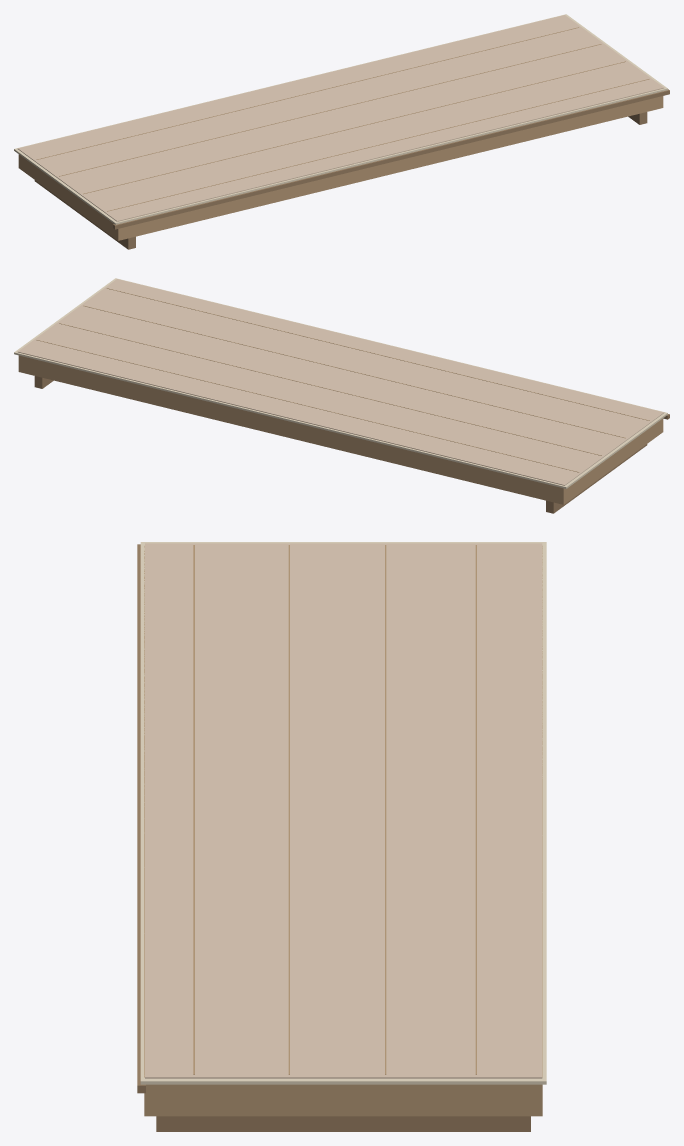
File: WoodenShowcaseCounter.glb
The picture shows the model from 3 angles, top to bottom: view 1: azimuth 30°, elevation 25°; view 2: azimuth 150°, elevation 25°; view 3: azimuth 270°, elevation 25°; orthographic projection. The views are drawn at different scales.
Visible parts, largest first — view 1: WoodenShowcaseCounter; view 2: WoodenShowcaseCounter; view 3: WoodenShowcaseCounter.
Part boxes in pixels (x1,y1,x2,y2): WoodenShowcaseCounter: [14, 14, 669, 249]; WoodenShowcaseCounter: [14, 278, 669, 513]; WoodenShowcaseCounter: [137, 542, 546, 1131].
Size of the model in its own units: 22.9 by 1.36 by 7.32.
